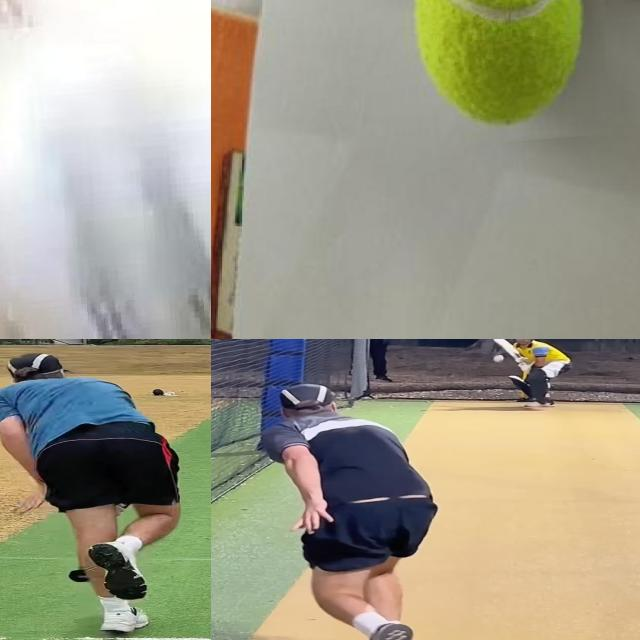Cricket ball: (0, 0, 211, 339), (394, 0, 605, 149), (492, 355, 505, 363)
